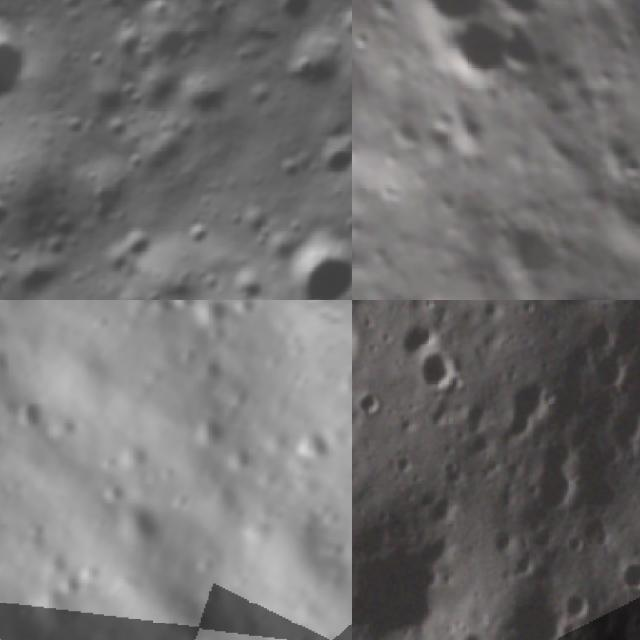crater: (352, 529, 454, 640), (478, 197, 582, 300), (429, 0, 529, 100), (0, 0, 57, 130), (267, 214, 352, 300), (273, 20, 352, 111), (142, 3, 222, 85), (518, 432, 590, 522), (90, 0, 167, 75), (389, 0, 498, 45), (78, 161, 145, 228), (498, 369, 565, 432), (301, 113, 352, 193), (532, 263, 640, 300), (108, 212, 169, 273), (186, 404, 245, 463), (379, 104, 436, 161), (415, 348, 474, 399), (596, 396, 640, 460), (8, 389, 62, 441), (89, 0, 195, 23), (586, 346, 631, 394), (260, 0, 323, 31), (561, 586, 601, 625), (615, 188, 640, 248), (0, 181, 23, 244), (354, 383, 392, 420), (488, 527, 522, 561), (615, 557, 640, 596), (451, 627, 496, 640)
